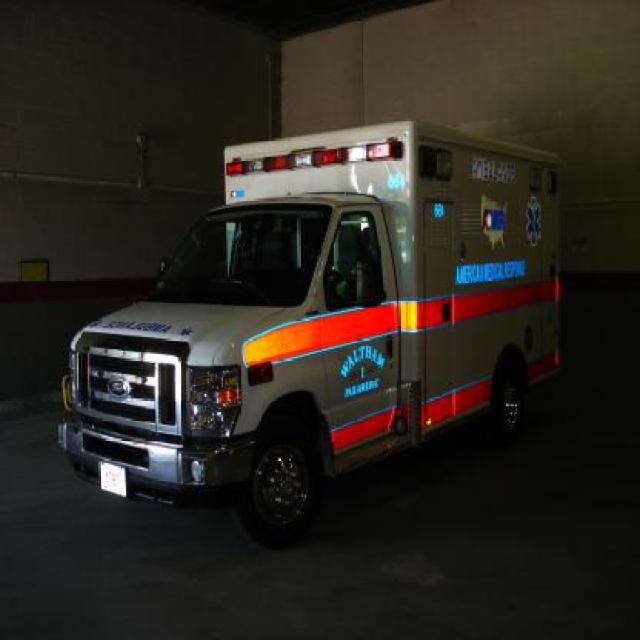Car: (57, 114, 560, 538)
